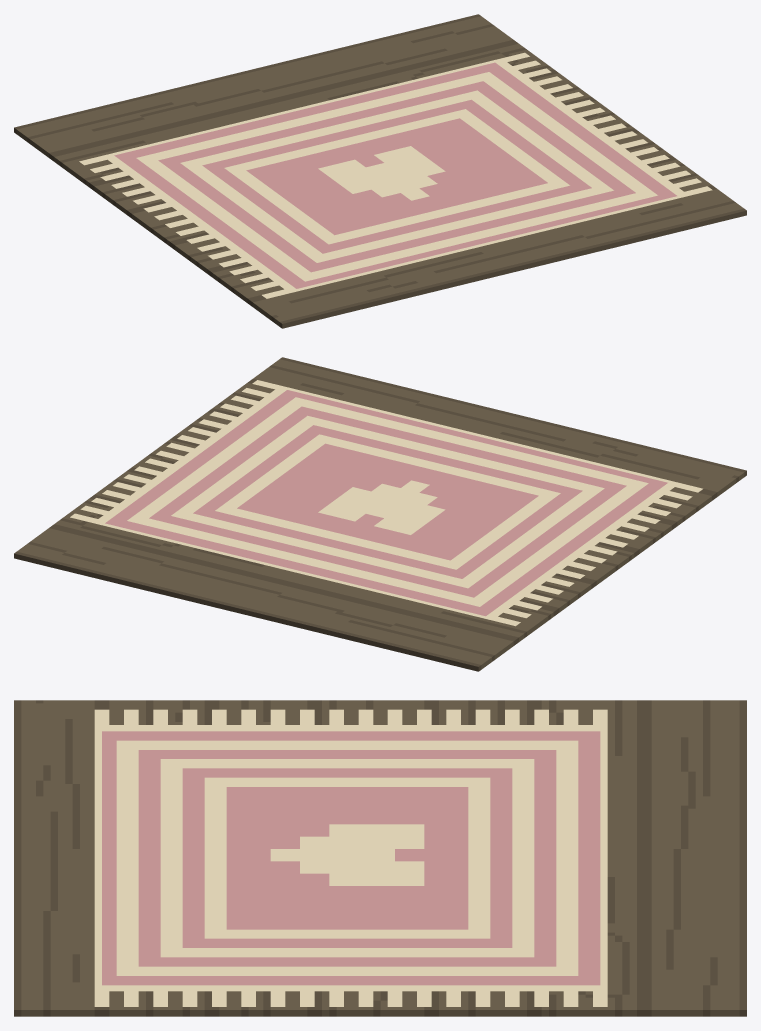
File: GGJ floor 01.2.obj
3 renders of one model, top to bottom at view 1: azimuth 30°, elevation 25°; view 2: azimuth 150°, elevation 25°; view 3: azimuth 270°, elevation 25°, orthographic. The views are drawn at different scales.
Size of the model in its own units: 10 by 0.1 by 10.
Materials: 1 (1 with a texture image).
